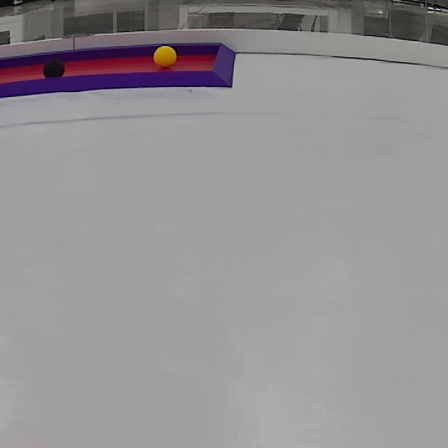black: (40, 56, 68, 81)
red_aim: (1, 39, 238, 89)
yellow: (149, 40, 177, 68)
